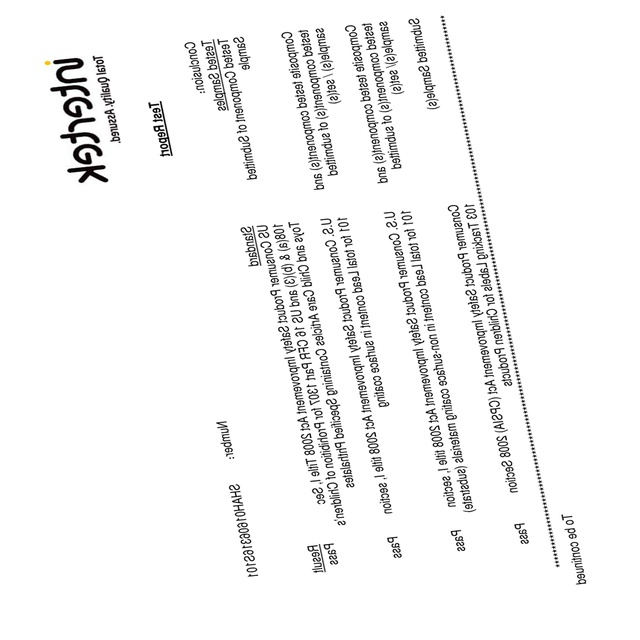intertek: (39, 53, 114, 188)
